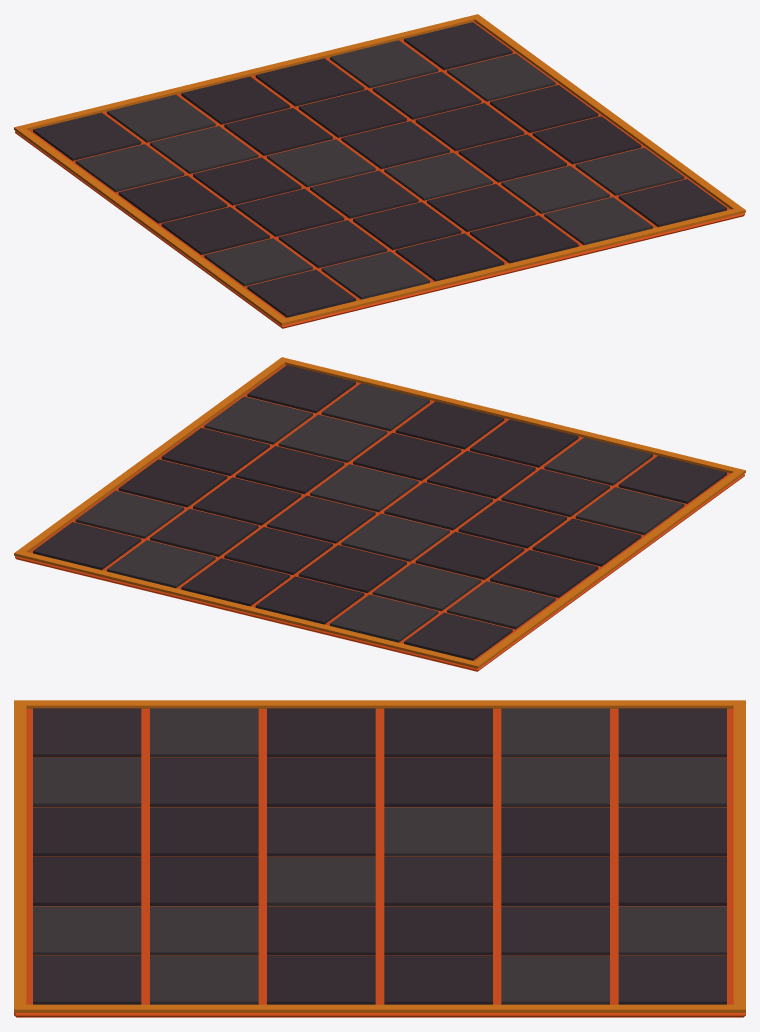
File: candy-plotfloor.glb
3 renders of one model, top to bottom at view 1: azimuth 30°, elevation 25°; view 2: azimuth 150°, elevation 25°; view 3: azimuth 270°, elevation 25°, orthographic. The views are drawn at different scales.
Parts seen in each view (by area): view 1: candy-plotfloor; view 2: candy-plotfloor; view 3: candy-plotfloor.
Part boxes in pixels (x1,y1,x2,y2): candy-plotfloor: [14, 14, 745, 328]; candy-plotfloor: [14, 357, 745, 671]; candy-plotfloor: [14, 700, 745, 1017].
Size of the model in its own units: 6 by 0.08 by 6.
